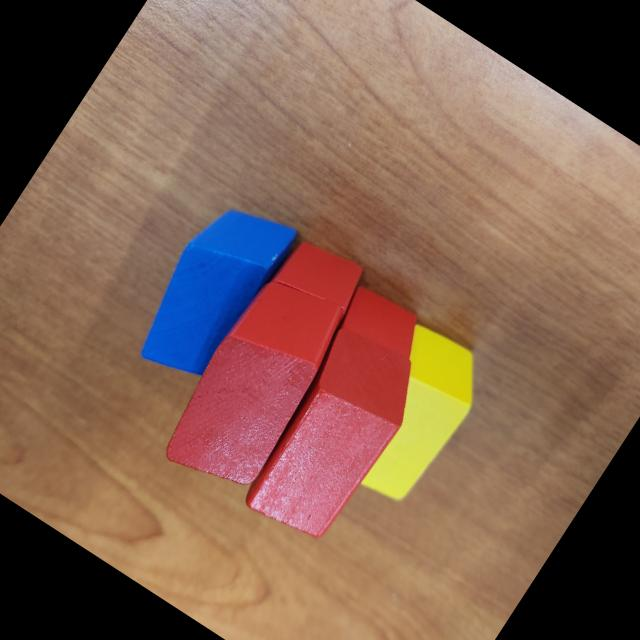blue: (120, 184, 304, 396)
red: (149, 262, 364, 510), (228, 317, 434, 555), (248, 226, 372, 354), (318, 278, 432, 390)
yellow: (323, 316, 498, 514)
